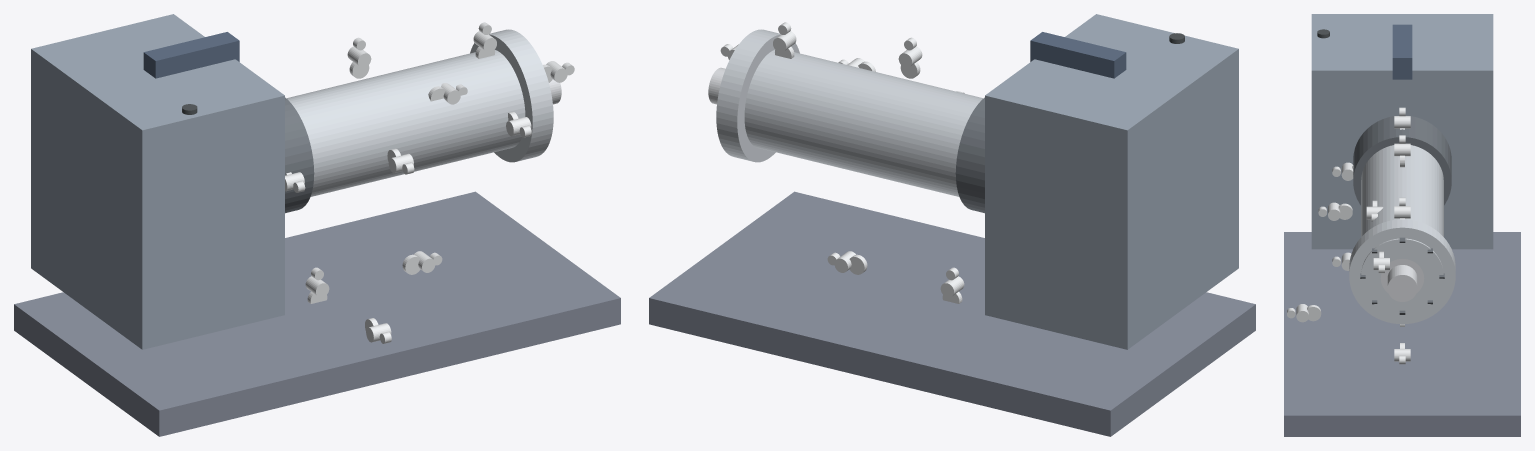
File: spindle.glb
The picture shows the model from 3 angles, left to right: view 1: azimuth 30°, elevation 25°; view 2: azimuth 150°, elevation 25°; view 3: azimuth 270°, elevation 25°; orthographic projection. The views are drawn at different scales.
Visible parts, largest first — view 1: CASING_HEADSTOCK_002, PART_001, CASING_CARTRIDGE_003, CASING_NOSE_005, PART_014, PART_018, SNS_SPINDLE_HOUSING_V, SNS_FOUNDATION_A, SNS_FOUNDATION_V, SNS_SPINDLE_FRONT_V, SNS_SPINDLE_HOUSING_A; view 2: CASING_HEADSTOCK_002, PART_001, CASING_CARTRIDGE_003, CASING_NOSE_005, PART_014, PART_018, SNS_SPINDLE_HOUSING_V, SNS_FOUNDATION_A, SNS_FOUNDATION_V, SNS_SPINDLE_FRONT_V; view 3: PART_001, CASING_HEADSTOCK_002, CASING_CARTRIDGE_003, CASING_NOSE_005, PART_018, PART_014, PART_016, PART_019, SNS_FOUNDATION_H, SNS_SPINDLE_HOUSING_H, SNS_SPINDLE_HOUSING_V, SNS_SPINDLE_REAR_H (+5 smaller).
Part boxes in pixels (x1=…): CASING_HEADSTOCK_002: x1=31, y1=14, x2=284, y2=349; PART_001: x1=14, y1=191, x2=620, y2=436; CASING_CARTRIDGE_003: x1=286, y1=50, x2=525, y2=196; CASING_NOSE_005: x1=470, y1=29, x2=553, y2=162; PART_014: x1=143, y1=32, x2=239, y2=78; PART_018: x1=285, y1=97, x2=314, y2=213; SNS_SPINDLE_HOUSING_V: x1=347, y1=37, x2=371, y2=78; SNS_FOUNDATION_A: x1=402, y1=251, x2=442, y2=274; SNS_FOUNDATION_V: x1=305, y1=267, x2=329, y2=303; SNS_SPINDLE_FRONT_V: x1=473, y1=22, x2=496, y2=58; SNS_SPINDLE_HOUSING_A: x1=428, y1=83, x2=467, y2=104; CASING_HEADSTOCK_002: x1=985, y1=14, x2=1238, y2=349; PART_001: x1=649, y1=191, x2=1255, y2=436; CASING_CARTRIDGE_003: x1=744, y1=50, x2=983, y2=196; CASING_NOSE_005: x1=716, y1=29, x2=799, y2=162; PART_014: x1=1030, y1=32, x2=1126, y2=78; PART_018: x1=955, y1=97, x2=984, y2=213; SNS_SPINDLE_HOUSING_V: x1=898, y1=37, x2=922, y2=78; SNS_FOUNDATION_A: x1=827, y1=251, x2=867, y2=274; SNS_FOUNDATION_V: x1=940, y1=267, x2=964, y2=303; SNS_SPINDLE_FRONT_V: x1=773, y1=22, x2=796, y2=58; PART_001: x1=1284, y1=232, x2=1520, y2=436; CASING_HEADSTOCK_002: x1=1311, y1=14, x2=1493, y2=249; CASING_CARTRIDGE_003: x1=1361, y1=145, x2=1443, y2=314; CASING_NOSE_005: x1=1349, y1=219, x2=1455, y2=324; PART_018: x1=1353, y1=115, x2=1451, y2=205; PART_014: x1=1392, y1=24, x2=1412, y2=79; PART_016: x1=1387, y1=265, x2=1417, y2=301; PART_019: x1=1380, y1=259, x2=1424, y2=292; SNS_FOUNDATION_H: x1=1287, y1=304, x2=1321, y2=322; SNS_SPINDLE_HOUSING_H: x1=1318, y1=202, x2=1352, y2=220; SNS_SPINDLE_HOUSING_V: x1=1394, y1=135, x2=1410, y2=167; SNS_SPINDLE_REAR_H: x1=1332, y1=162, x2=1353, y2=180.
Bounding box in the file's own units: 1.13 × 0.71 × 0.6.
